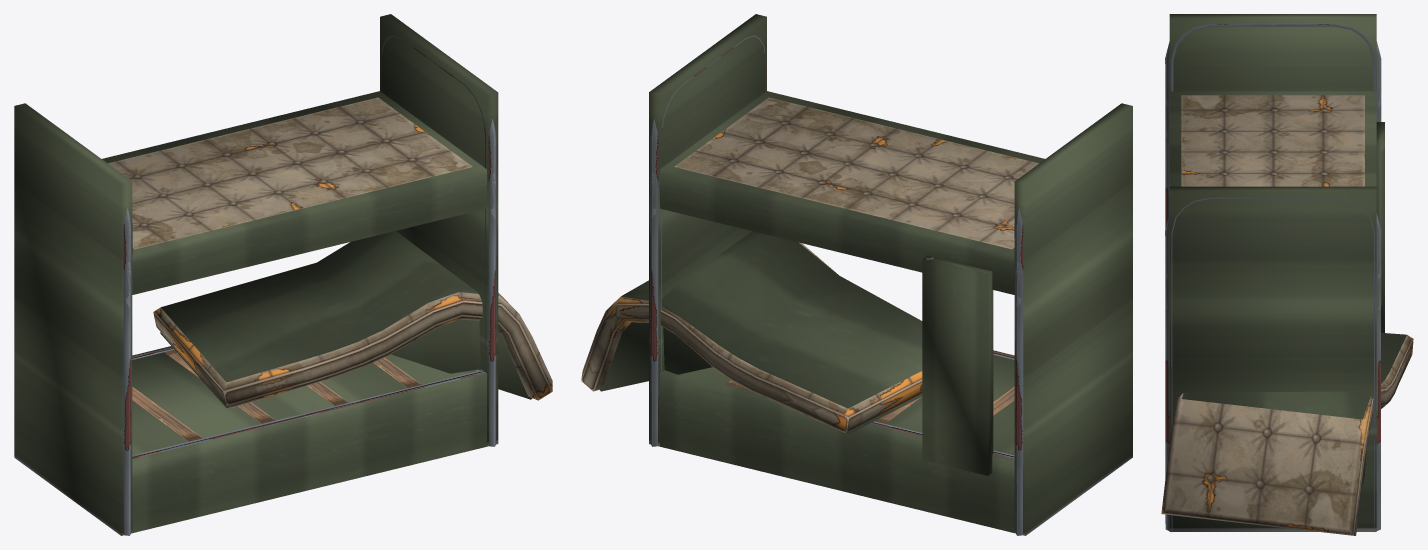
File: bed04_F.fbx
The picture shows the model from 3 angles, left to right: view 1: azimuth 30°, elevation 25°; view 2: azimuth 150°, elevation 25°; view 3: azimuth 270°, elevation 25°; orthographic projection. The views are drawn at different scales.
Parts seen in each view (by area): view 1: bed04_F_COL, bed04_F; view 2: bed04_F_COL, bed04_F; view 3: bed04_F_COL, bed04_F.
Boxes of the visible parts, left/top/right/bottom form: bed04_F_COL: left=14, top=14, right=532, bottom=535; bed04_F: left=108, top=35, right=552, bottom=535; bed04_F_COL: left=600, top=14, right=1132, bottom=535; bed04_F: left=581, top=35, right=1038, bottom=535; bed04_F_COL: left=1169, top=14, right=1406, bottom=531; bed04_F: left=1161, top=24, right=1413, bottom=535.
Bounding box in the file's own units: 262 × 192 × 129.
